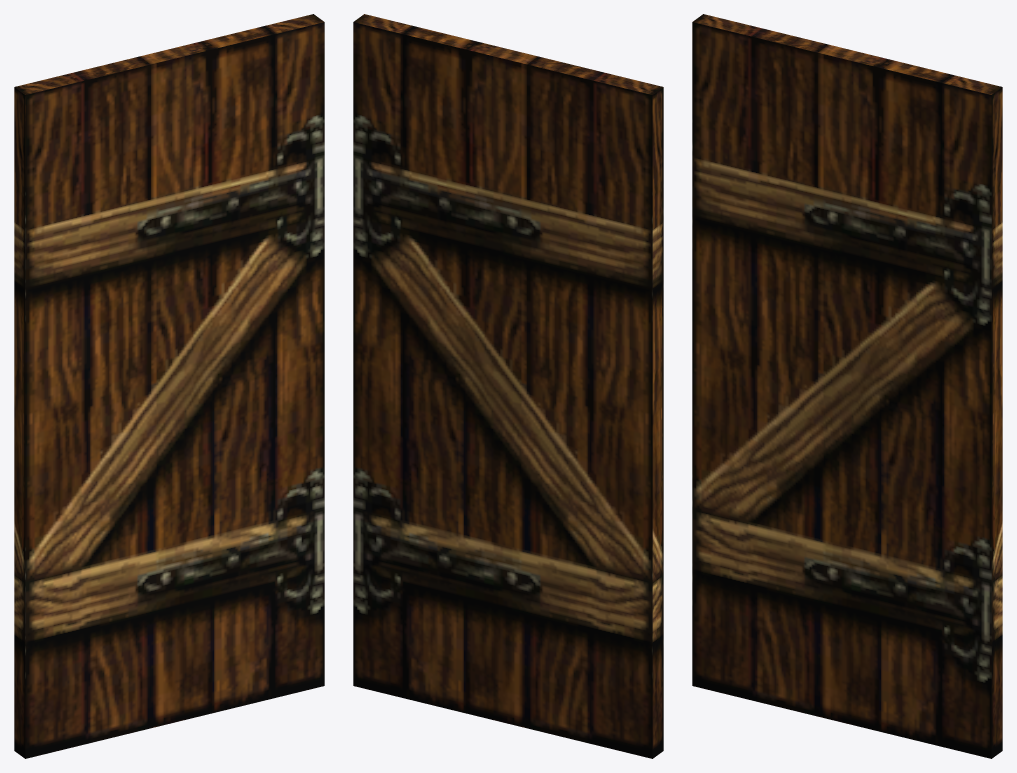
Rendered from LAKETOWN_WAREHOUSE2_ANIM_WH2_DOORS003__AI.fbx.
The picture shows the model from 3 angles, left to right: view 1: azimuth 30°, elevation 25°; view 2: azimuth 150°, elevation 25°; view 3: azimuth 330°, elevation 25°; orthographic projection.
Visible parts, largest first — view 1: LAKETOWN_WAREHOUSE2_ANIM_WH2_DOORS003__AI; view 2: LAKETOWN_WAREHOUSE2_ANIM_WH2_DOORS003__AI; view 3: LAKETOWN_WAREHOUSE2_ANIM_WH2_DOORS003__AI.
Boxes of the visible parts, box(x1,y1,x2,y2) form: LAKETOWN_WAREHOUSE2_ANIM_WH2_DOORS003__AI: box(14, 14, 324, 758); LAKETOWN_WAREHOUSE2_ANIM_WH2_DOORS003__AI: box(353, 14, 663, 758); LAKETOWN_WAREHOUSE2_ANIM_WH2_DOORS003__AI: box(692, 14, 1002, 758).
Bounding box in the file's own units: 12626 × 26760 × 808.
Materials: 1 (1 with a texture image).
